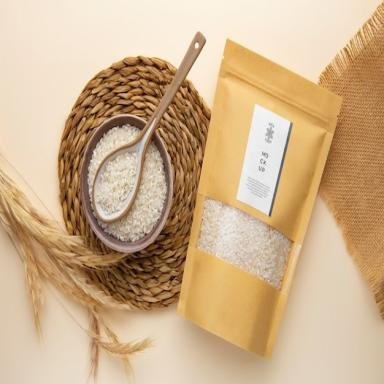rice package: (178, 41, 341, 358)
